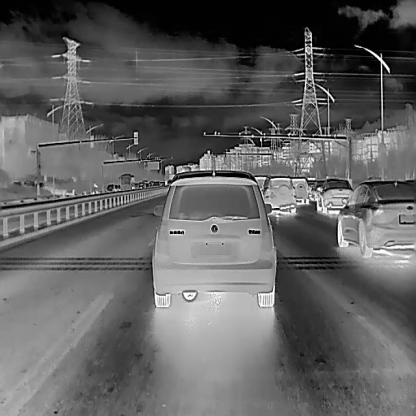bus: (117, 172, 134, 190)
car: (151, 168, 276, 306), (336, 177, 416, 258), (260, 174, 295, 214), (316, 177, 354, 213), (289, 175, 309, 204), (104, 182, 115, 192), (23, 178, 34, 188), (34, 180, 45, 190), (136, 180, 145, 190), (152, 180, 160, 187), (113, 184, 120, 191)
